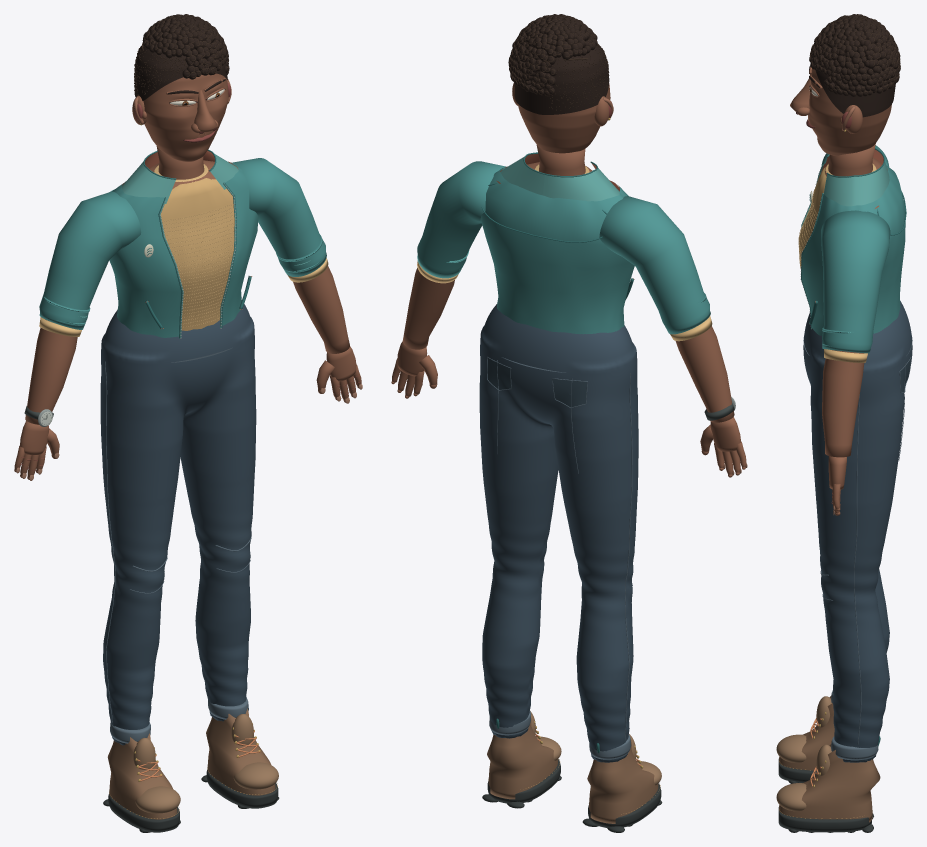
3 views of the same model, side by side, from view 1: azimuth 30°, elevation 25°; view 2: azimuth 150°, elevation 25°; view 3: azimuth 270°, elevation 25° (orthographic). The views are drawn at different scales.
Parts seen in each view (by area): view 1: Trousers / continuous hips and athletic legs, Shell / open ripstop body, Knit / heavy shaped pullover, Shell / L pushed sleeve, Shell / R pushed sleeve, Head / sculpted continuous face and skull, Hair / dense tightly curled crown, Body / L arm, Body / R arm, Boots / L leather upper, Boots / R leather upper, Hair / close cut fitted cap (+10 smaller); view 2: Trousers / continuous hips and athletic legs, Shell / open ripstop body, Shell / L pushed sleeve, Shell / R pushed sleeve, Hair / dense tightly curled crown, Hair / close cut fitted cap, Boots / L leather upper, Boots / R leather upper, Body / L arm, Head / sculpted continuous face and skull, Body / R arm, Hair / coil highlights (+8 smaller); view 3: Trousers / continuous hips and athletic legs, Shell / R pushed sleeve, Hair / dense tightly curled crown, Shell / open ripstop body, Boots / R leather upper, Body / R arm, Head / sculpted continuous face and skull, Hair / coil highlights, Shell / raised collar 1, Hair / close cut fitted cap, Boots / R rubber outsole, Boots / L leather upper (+14 smaller).
Boxes of the visible parts, x1,y1,x2,y2 form: Trousers / continuous hips and athletic legs: (100, 300, 256, 745); Shell / open ripstop body: (109, 162, 258, 337); Knit / heavy shaped pullover: (160, 178, 234, 330); Shell / L pushed sleeve: (39, 191, 141, 329); Shell / R pushed sleeve: (231, 158, 326, 276); Head / sculpted continuous face and skull: (143, 73, 228, 161); Hair / dense tightly curled crown: (143, 14, 229, 79); Body / L arm: (25, 319, 77, 424); Body / R arm: (293, 266, 349, 353); Boots / L leather upper: (107, 733, 177, 819); Boots / R leather upper: (206, 708, 275, 795); Hair / close cut fitted cap: (134, 46, 228, 100); Trousers / continuous hips and athletic legs: (479, 304, 638, 762); Shell / open ripstop body: (480, 167, 634, 334); Shell / L pushed sleeve: (599, 196, 710, 334); Shell / R pushed sleeve: (417, 161, 506, 278); Hair / dense tightly curled crown: (508, 14, 597, 96); Hair / close cut fitted cap: (514, 41, 609, 114); Boots / L leather upper: (587, 739, 658, 823); Boots / R leather upper: (487, 718, 557, 799); Body / L arm: (675, 326, 734, 422); Head / sculpted continuous face and skull: (517, 83, 610, 153); Body / R arm: (402, 268, 454, 349); Hair / coil highlights: (509, 14, 597, 96); Trousers / continuous hips and athletic legs: (803, 301, 912, 762); Shell / R pushed sleeve: (821, 210, 890, 353); Hair / dense tightly curled crown: (809, 14, 900, 96); Shell / open ripstop body: (802, 165, 905, 335); Boots / R leather upper: (779, 744, 880, 822); Body / R arm: (822, 350, 864, 457); Head / sculpted continuous face and skull: (808, 69, 891, 155); Hair / coil highlights: (809, 14, 900, 96); Shell / raised collar 1: (824, 163, 889, 206); Hair / close cut fitted cap: (816, 43, 895, 117); Boots / R rubber outsole: (778, 807, 871, 832); Boots / L leather upper: (779, 696, 834, 770).
Size of the model in its own units: 0.7477 by 1.6 by 0.252.
